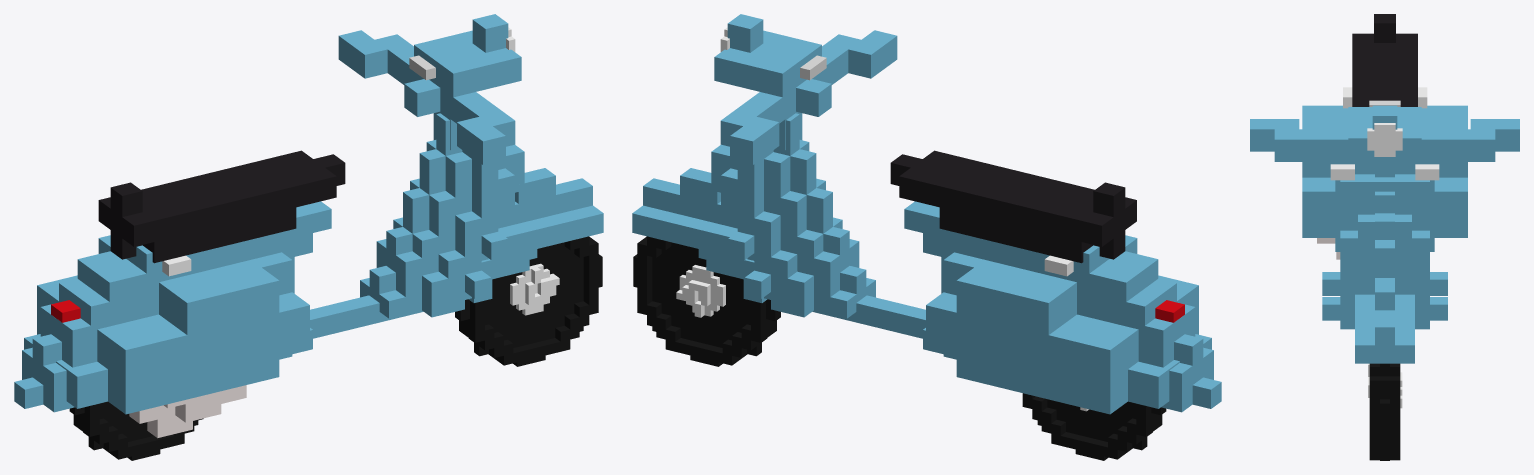
File: scooter_bleu.fbx
The picture shows the model from 3 angles, left to right: view 1: azimuth 30°, elevation 25°; view 2: azimuth 150°, elevation 25°; view 3: azimuth 270°, elevation 25°; orthographic projection. The views are drawn at different scales.
Parts seen in each view (by area): view 1: mod_structure_scooter, mod_roue_devant_scooter, mod_roue_derriere_scooter; view 2: mod_structure_scooter, mod_roue_devant_scooter, mod_roue_derriere_scooter; view 3: mod_structure_scooter, mod_roue_devant_scooter.
Part boxes in pixels (box(x1,y1,x2,y2)): mod_structure_scooter: box(14, 14, 603, 438); mod_roue_devant_scooter: box(455, 236, 602, 366); mod_roue_derriere_scooter: box(69, 401, 203, 460); mod_structure_scooter: box(632, 14, 1221, 414); mod_roue_devant_scooter: box(633, 236, 780, 366); mod_roue_derriere_scooter: box(1022, 393, 1166, 460); mod_structure_scooter: box(1250, 14, 1519, 363); mod_roue_devant_scooter: box(1368, 363, 1402, 460).
Bounding box in the file's own units: 178 × 103 × 76.87.
